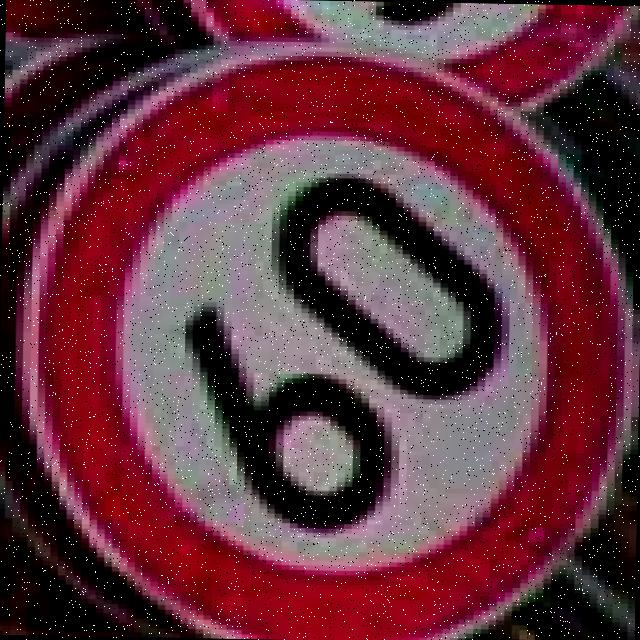Ograniczenie predkosci do 60: (2, 41, 621, 640)
